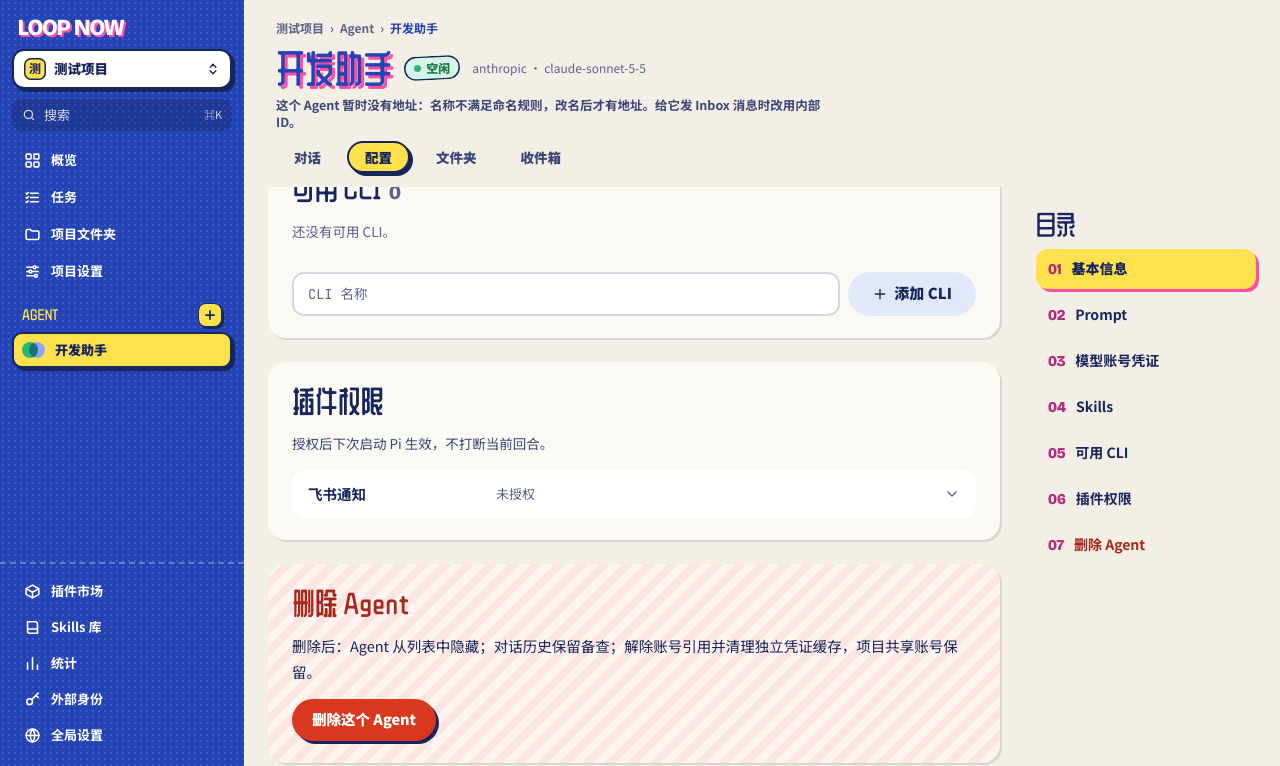
Test: Agent 配置页的插件段 › 展开一行：勾选授权并选账号后保存，这一行标出已保存
(page scrolled)
Click the button "飞书通知 未授权" at point(337, 494), box left=292, top=470, right=976, bottom=518
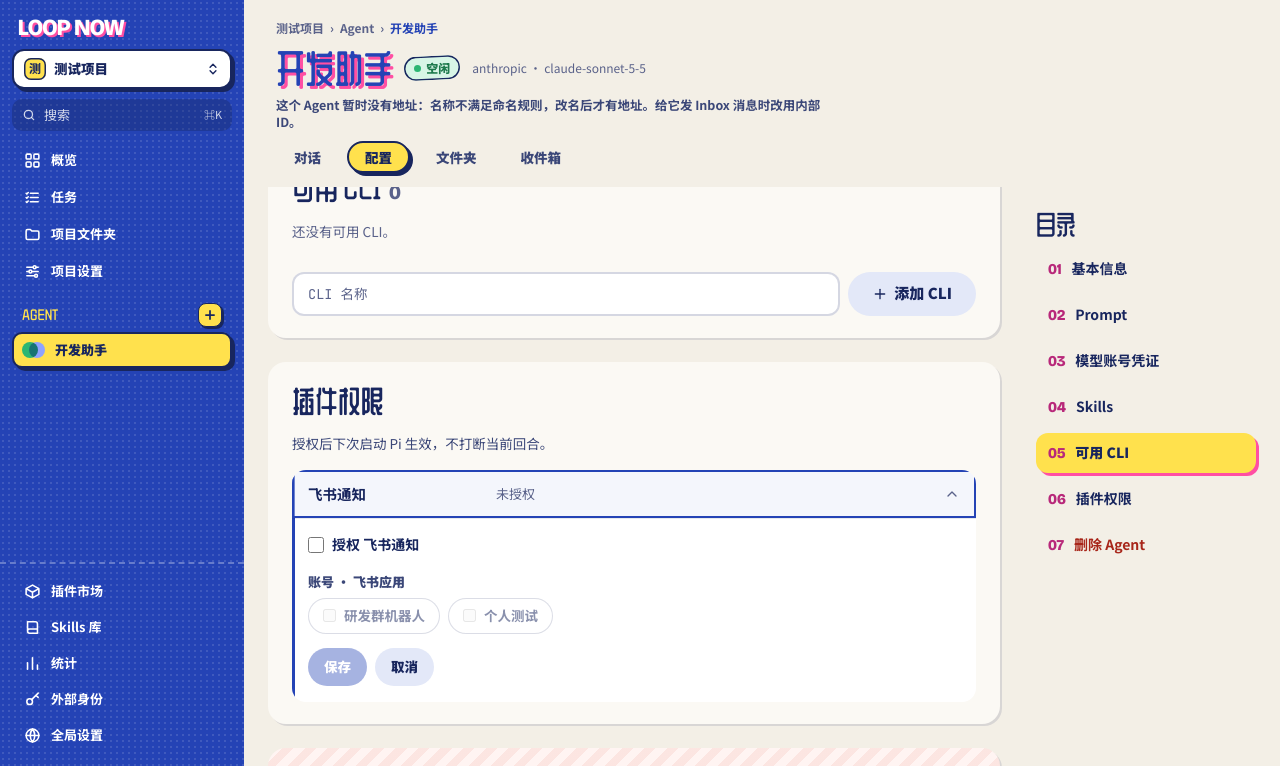
Click the checkbox labelled "授权 飞书通知" at point(316, 545), box left=308, top=537, right=324, bottom=553
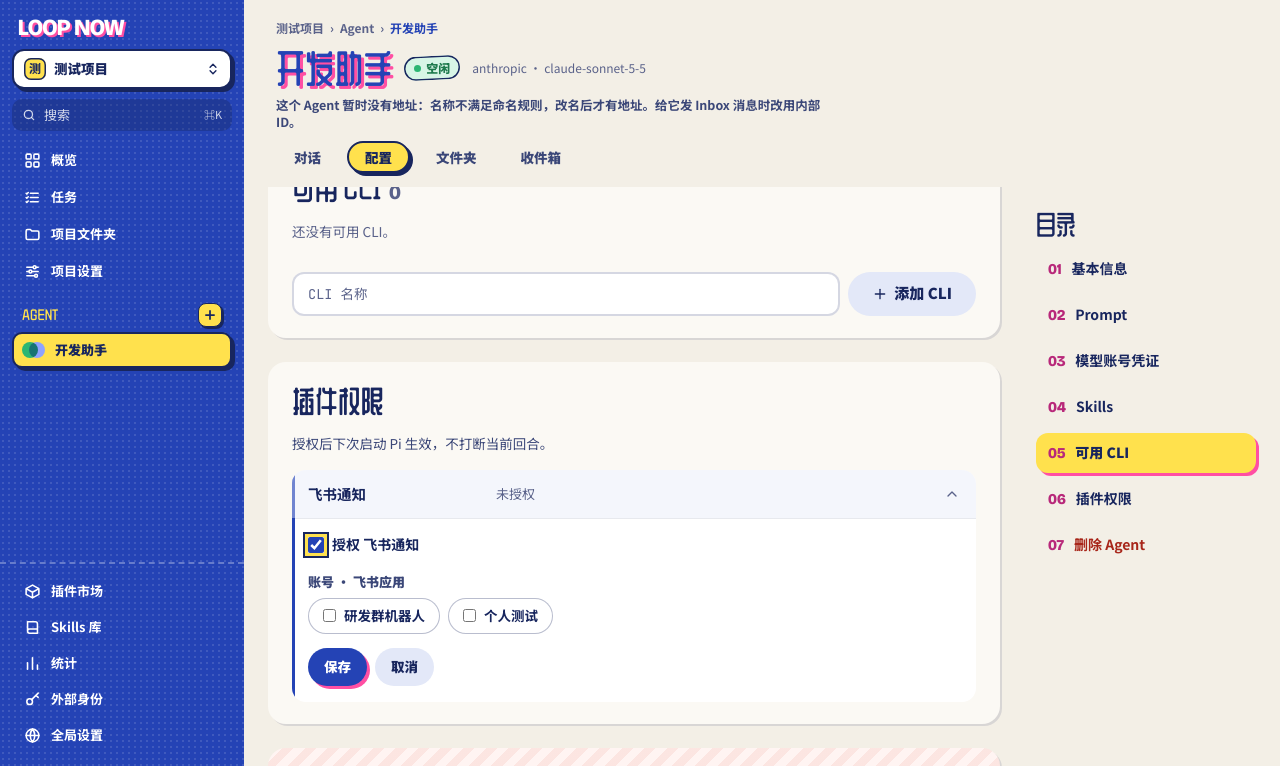
Click the checkbox labelled "个人测试" at point(470, 616), box left=463, top=610, right=476, bottom=622
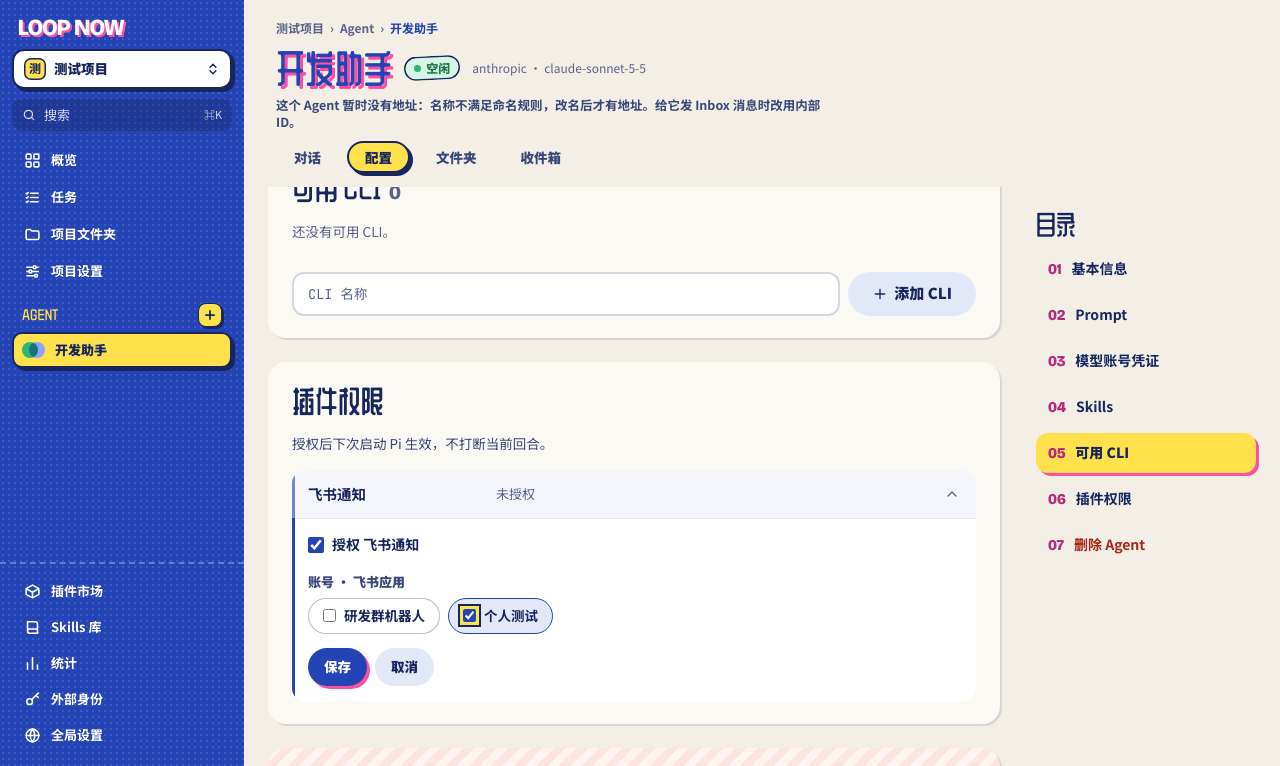
Click the button "保存" at point(338, 667), box left=308, top=648, right=367, bottom=686
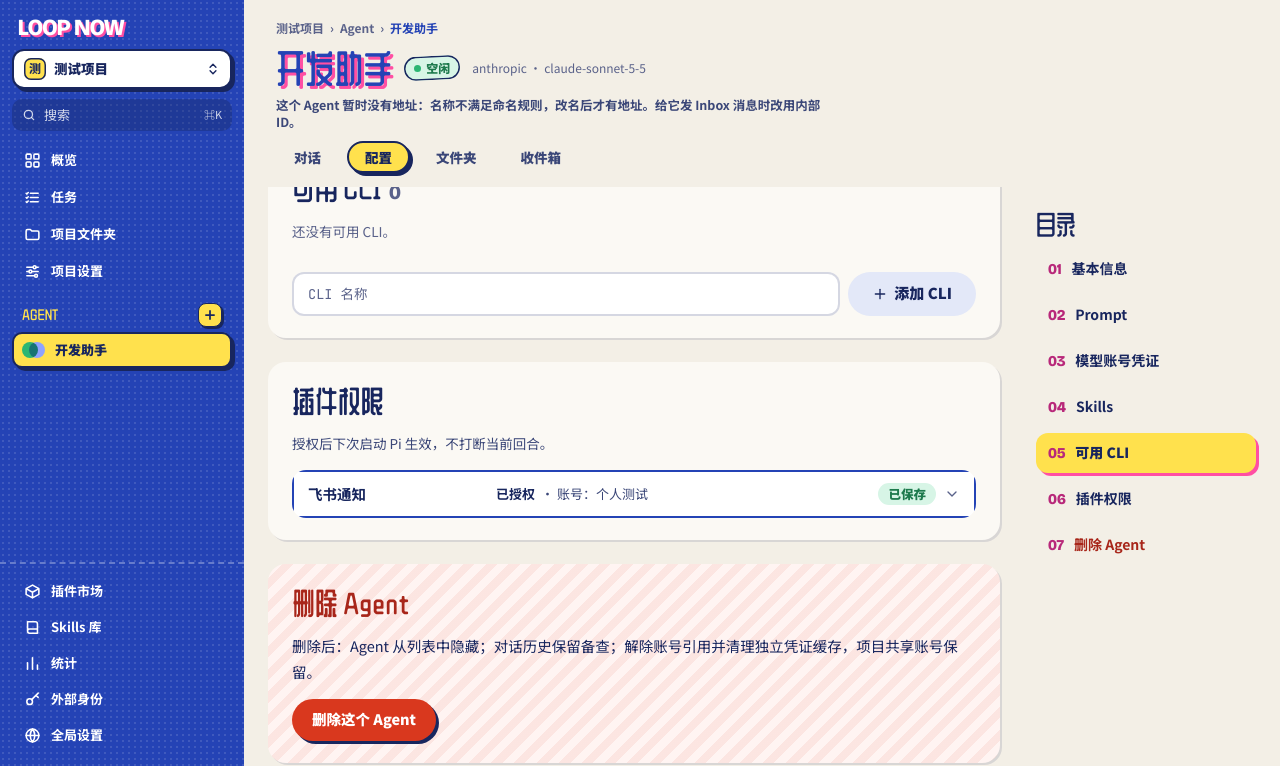
Now the text "已保存" is shown, box left=878, top=483, right=936, bottom=505
